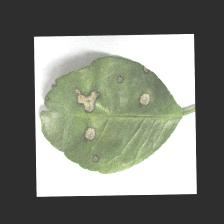canker: (55, 68, 155, 154)
